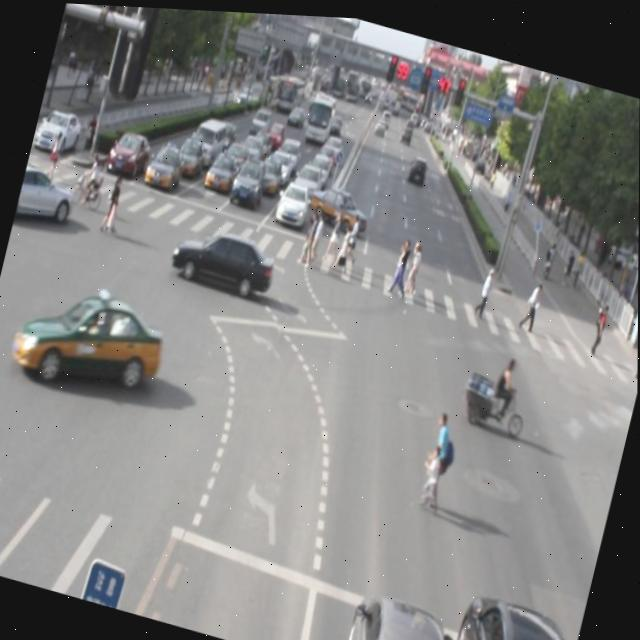car: (8, 273, 171, 403), (435, 570, 585, 640), (166, 211, 281, 302), (333, 573, 464, 640)
